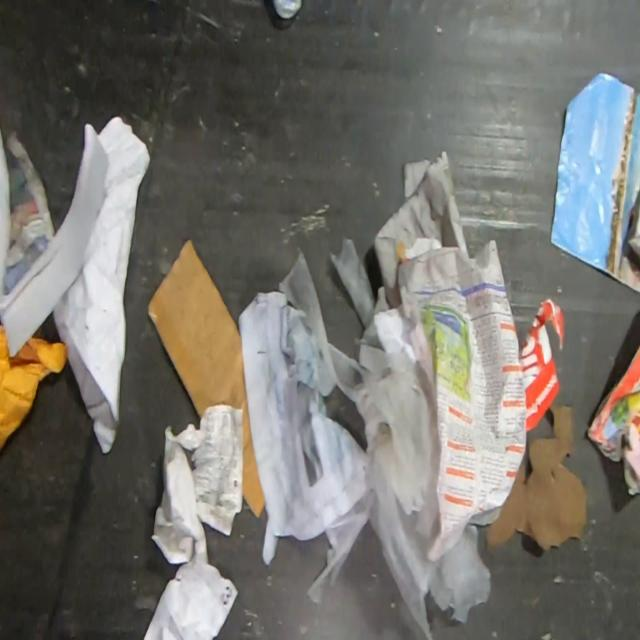cardboard: (146, 239, 266, 518), (584, 341, 640, 496), (518, 294, 566, 433)
soft_plastic: (305, 237, 492, 640)
